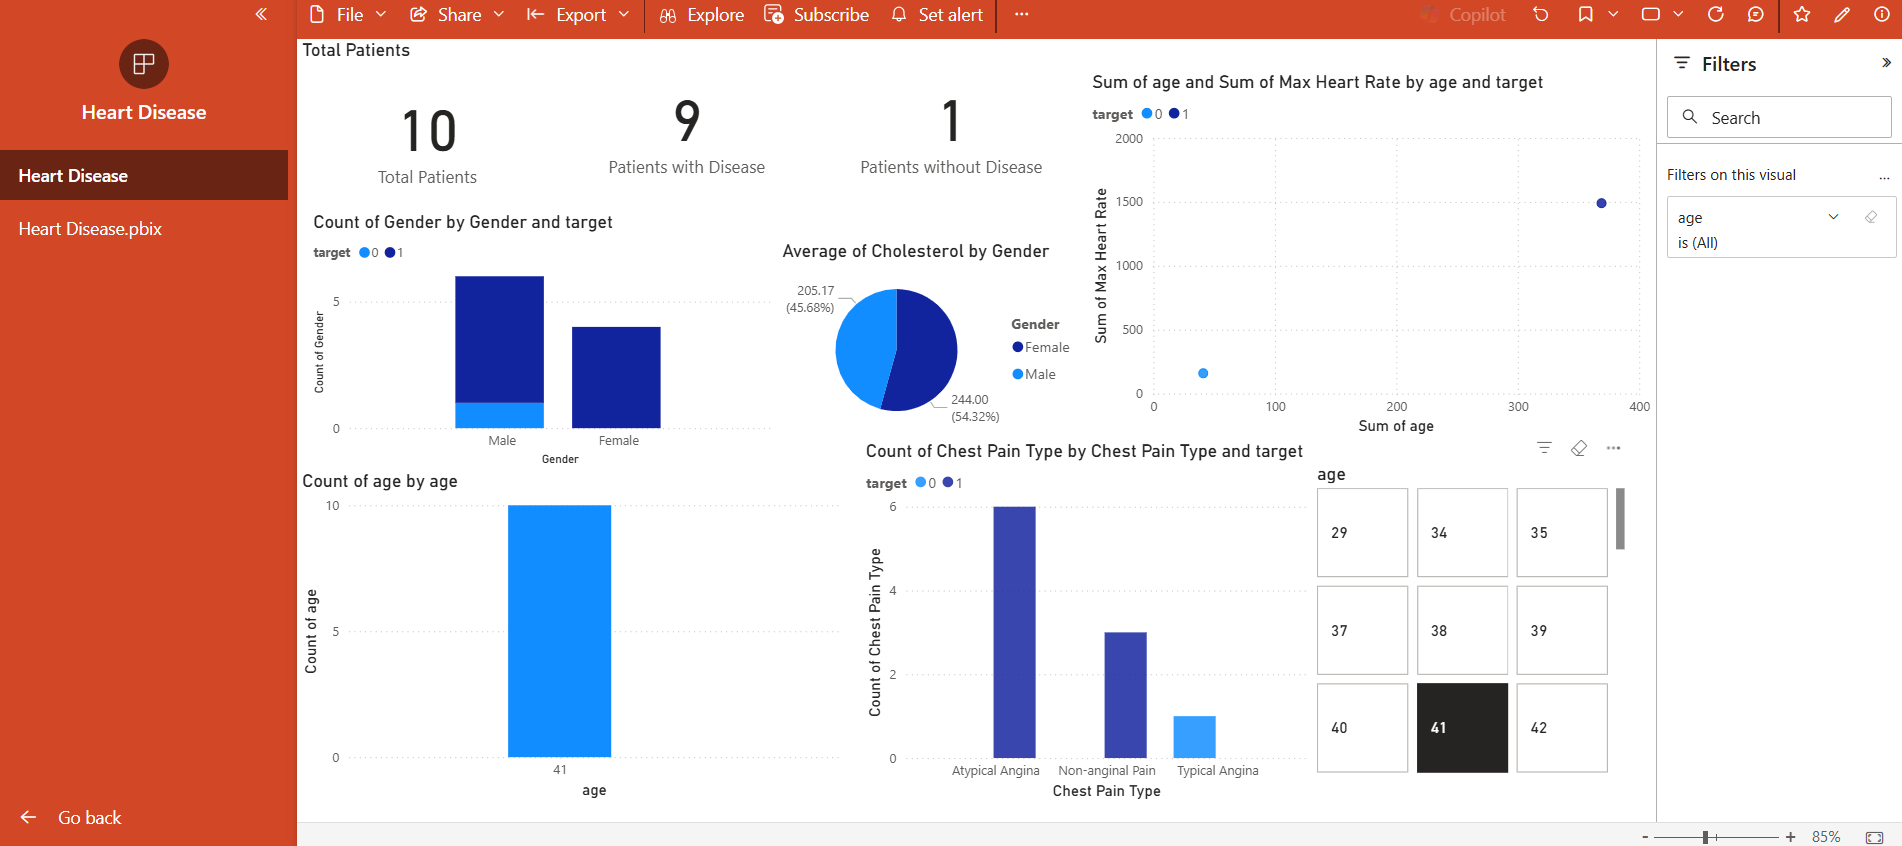

This screenshot's page, from the dashboard's own definition file:
{"tool":"powerbi","page":{"name":"Page 1","canvas":[1280,720],"ordinal":0},"visuals":[{"type":"card","title":"Total Patients","fields":{"Values":["heart.Total Patients"]},"box":[0,0,245.8,162.7],"z":0},{"type":"card","fields":{"Values":["heart.Patients with Disease"]},"box":[246.3,0,242.6,163],"z":1000},{"type":"card","fields":{"Values":["heart.Patients without Disease"]},"box":[488.9,0,255.6,163],"z":2000},{"type":"columnChart","fields":{"Category":["heart.Gender"],"Y":["CountNonNull(heart.Gender)"],"Series":["heart.target"]},"box":[10.2,162.7,440.7,244.1],"z":3000},{"type":"clusteredColumnChart","fields":{"Category":["heart.Chest Pain Type"],"Y":["CountNonNull(heart.Chest Pain Type)"],"Series":["heart.target"]},"box":[531,377.4,425.4,343.1],"z":4000},{"type":"columnChart","fields":{"Category":["heart.age"],"Y":["CountNonNull(heart.age)"]},"box":[0,406.2,516,314.2],"z":5000},{"type":"scatterChart","fields":{"X":["Sum(heart.age)"],"Y":["Sum(heart.Max Heart Rate)"],"Series":["heart.target"],"Category":["heart.age"]},"box":[744.1,30.9,535.3,347.1],"z":6000},{"type":"pieChart","fields":{"Category":["heart.Gender"],"Y":["Avg(heart.Cholesterol)"]},"box":[452.5,189.8,291.5,188.1],"z":7000},{"type":"advancedSlicerVisual","fields":{"Values":["heart.age"]},"box":[956.4,399.3,299.1,299.1],"z":7001}]}

Visuals, with their boxes on the page's 1280x720 design canvas (x1, y1, x2, y2). These are canvas units, not pixel positions in the 1902x846 screenshot, which may show the page scaled, cropped or inside an application window:
"Total Patients" card: x1=0 y1=0 x2=246 y2=163
card - heart.Patients with Disease: x1=246 y1=0 x2=489 y2=163
card - heart.Patients without Disease: x1=489 y1=0 x2=744 y2=163
columnChart - heart.Gender x CountNonNull(heart.Gender): x1=10 y1=163 x2=451 y2=407
clusteredColumnChart - heart.Chest Pain Type x CountNonNull(heart.Chest Pain Type): x1=531 y1=377 x2=956 y2=720
columnChart - heart.age x CountNonNull(heart.age): x1=0 y1=406 x2=516 y2=720
scatterChart - Sum(heart.age) x Sum(heart.Max Heart Rate): x1=744 y1=31 x2=1279 y2=378
pieChart - heart.Gender x Avg(heart.Cholesterol): x1=452 y1=190 x2=744 y2=378
advancedSlicerVisual - heart.age: x1=956 y1=399 x2=1256 y2=698
